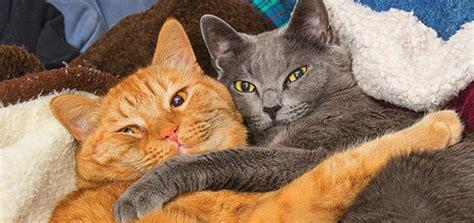cat: (49, 19, 461, 223), (112, 1, 474, 223)
